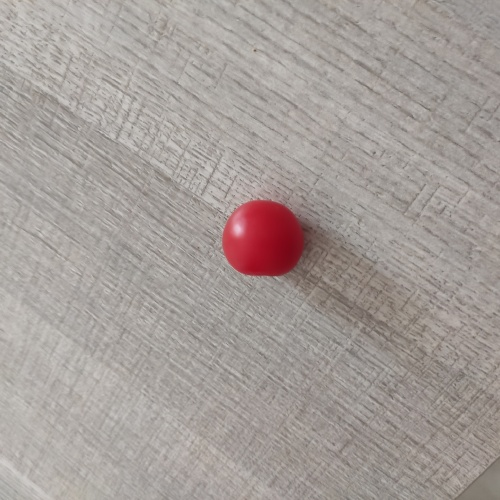pomodoro: (220, 201, 308, 280)
